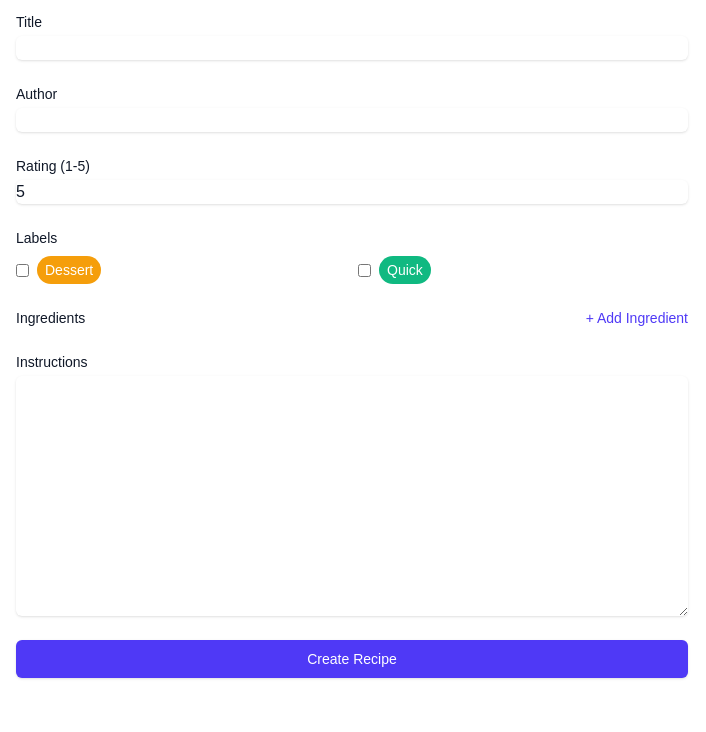
Test case: RecipeForm › allows adding ingredients
Click the button "+ Add Ingredient": [637, 318] box [586, 308, 688, 328]
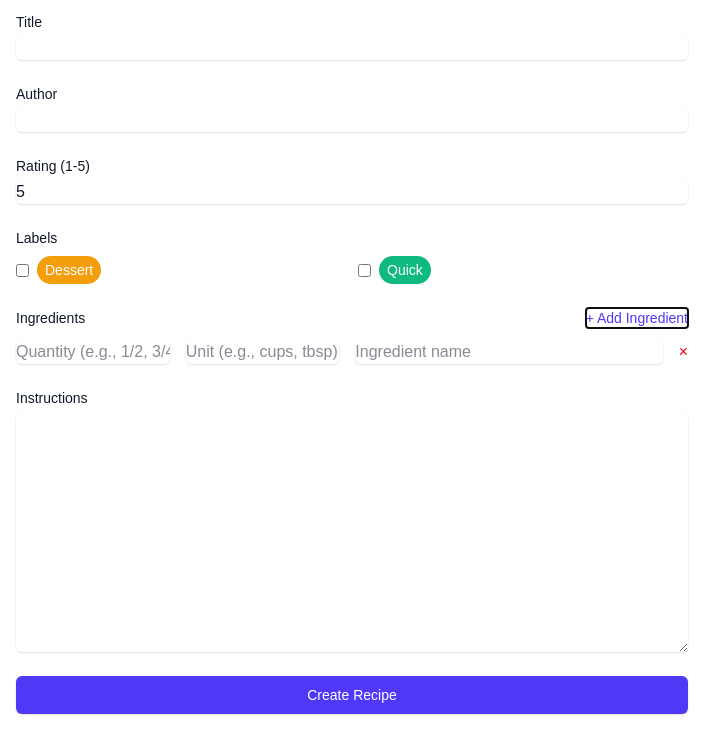
Check: the number of fields with placeholder "Quantity (e.g., 1/2, 3/4, 2)" is 1, box [16, 340, 170, 364]
